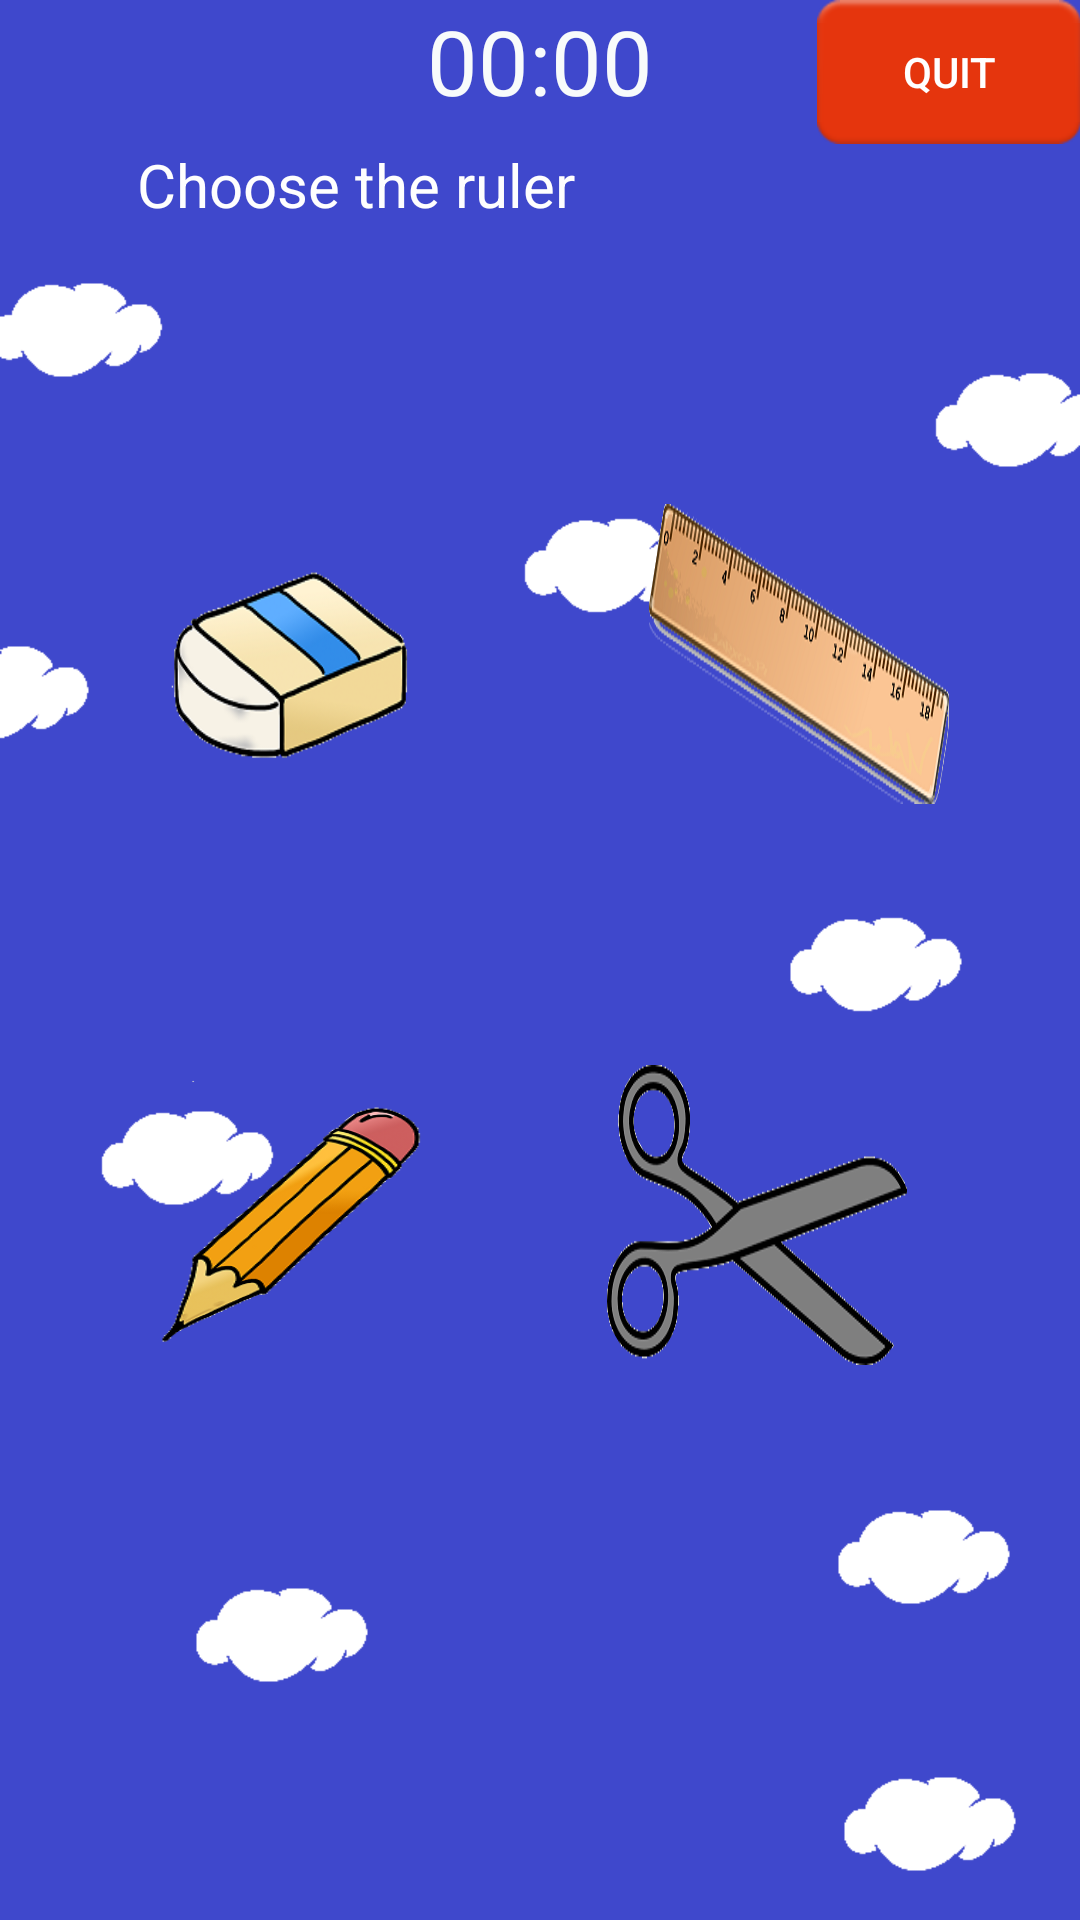

Locate icon controls on the screen. Image size 1080 x 1920, boxes as (x1, y1, x2, y2).
eraser: (171, 572, 407, 758)
pencil: (162, 1081, 420, 1342)
scissor: (607, 1065, 907, 1365)
